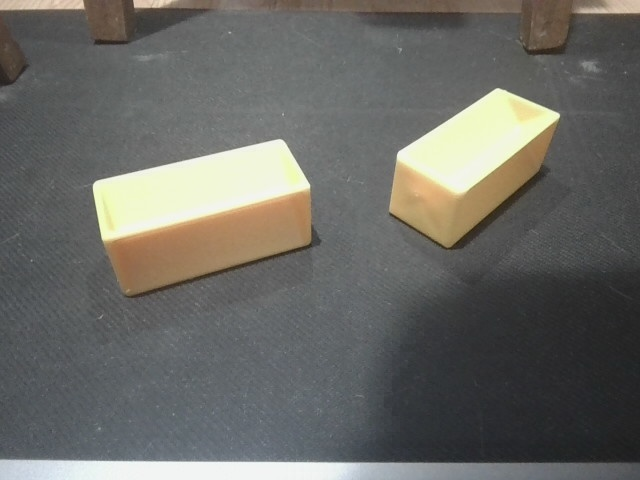YellowSample: (88, 136, 315, 296), (387, 88, 564, 251)
